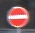No entry: (6, 5, 30, 28)
